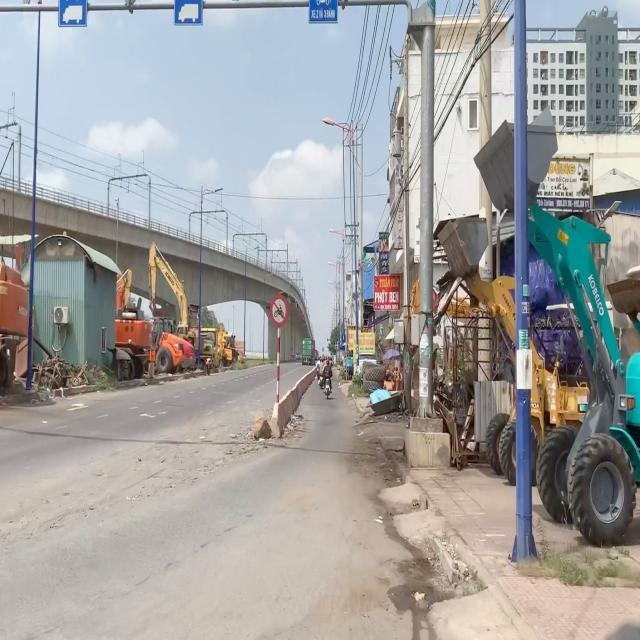Cam con lai: (271, 294, 287, 326)
